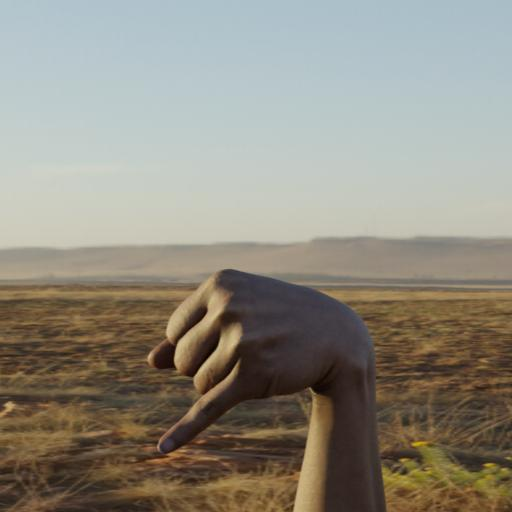J: (137, 259, 388, 461)
